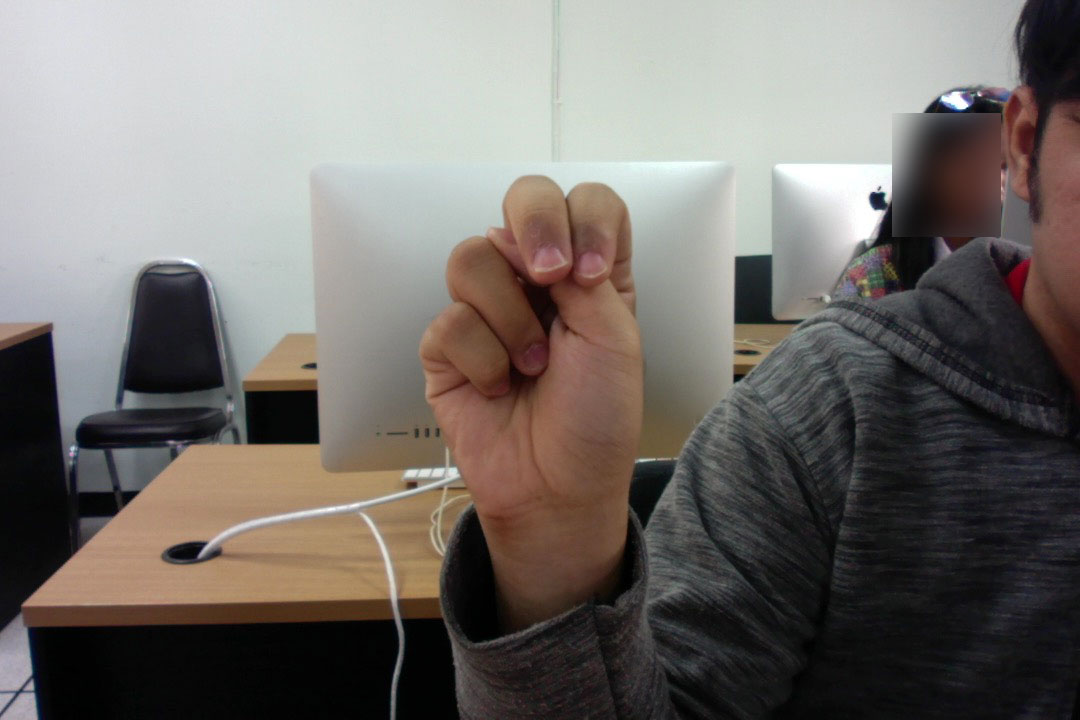nor: (410, 156, 651, 543)
